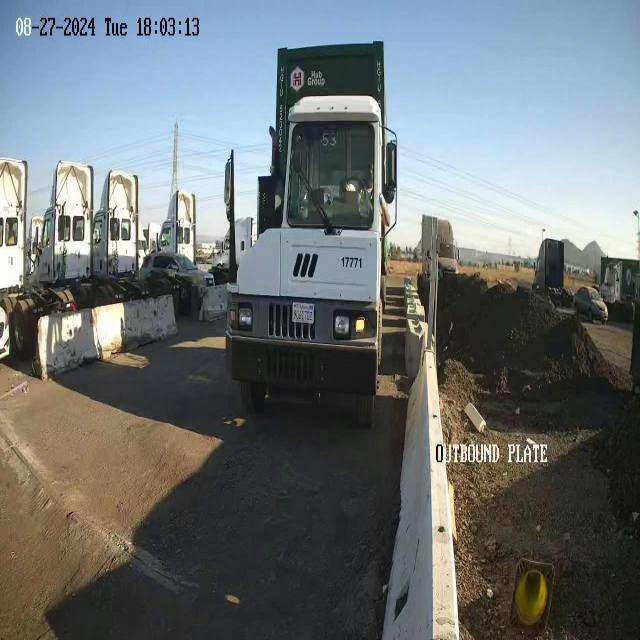TRUCK_OUT: (222, 40, 400, 428)
